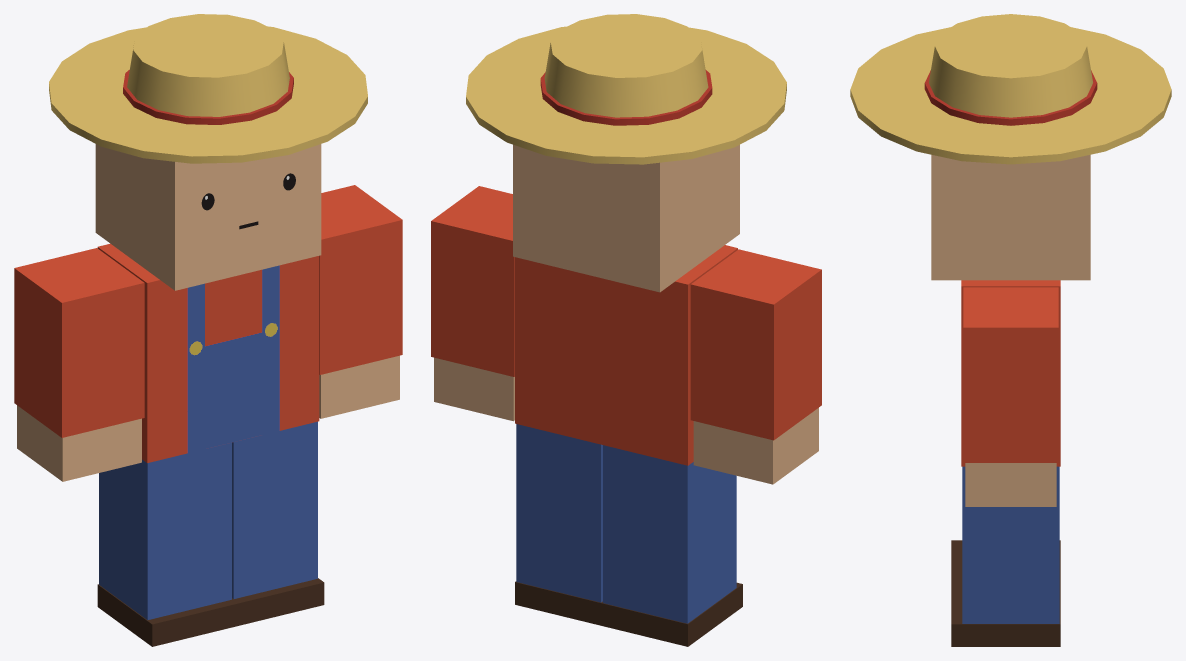
File: farmer.glb
3 renders of one model, left to right at view 1: azimuth 30°, elevation 25°; view 2: azimuth 150°, elevation 25°; view 3: azimuth 270°, elevation 25°, orthographic.
Visible parts, largest first — view 1: head, torso, arm_R, leg_R, arm_L, leg_L; view 2: head, torso, arm_R, leg_R, arm_L, leg_L; view 3: head, arm_L, leg_L, torso, leg_R.
Part boxes in pixels (box(x1,y1,x2,y2)): head: box(49, 14, 367, 290); torso: box(97, 243, 319, 462); arm_R: box(14, 248, 144, 481); leg_R: box(97, 442, 238, 646); arm_L: box(319, 185, 402, 418); leg_L: box(232, 421, 324, 625); head: box(466, 14, 786, 292); torso: box(515, 245, 737, 465); arm_R: box(690, 249, 821, 484); leg_R: box(601, 445, 742, 646); arm_L: box(431, 186, 514, 421); leg_L: box(515, 424, 602, 625); head: box(850, 14, 1171, 280); arm_L: box(963, 287, 1058, 506); leg_L: box(951, 466, 1060, 646); torso: box(961, 280, 1060, 466); leg_R: box(951, 540, 1060, 582).
Size of the model in its own units: 0.99 by 1.55 by 0.8075.
10 materials, 2 textured.
